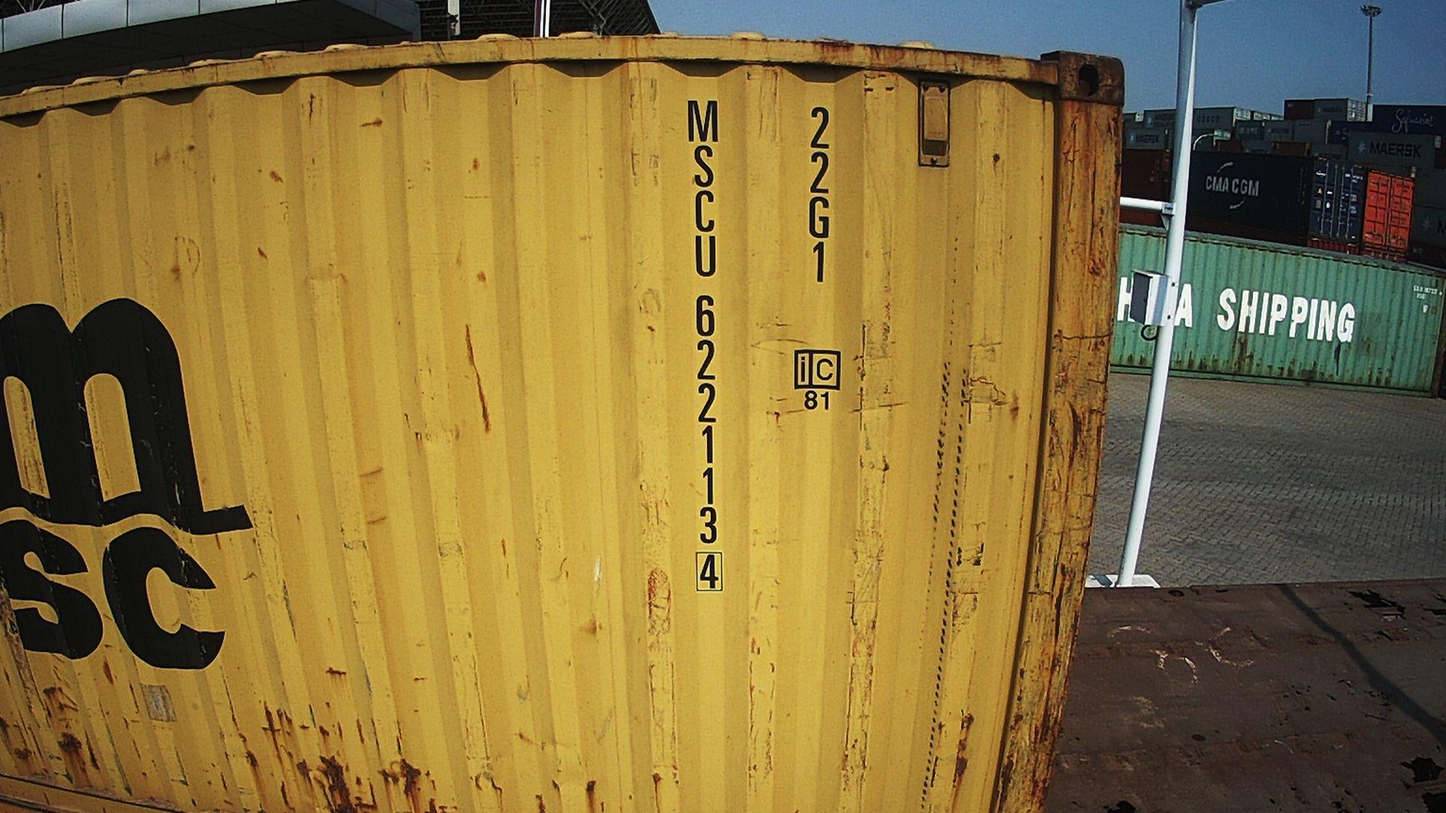container-numbers: (682, 93, 730, 599), (801, 103, 840, 288)
